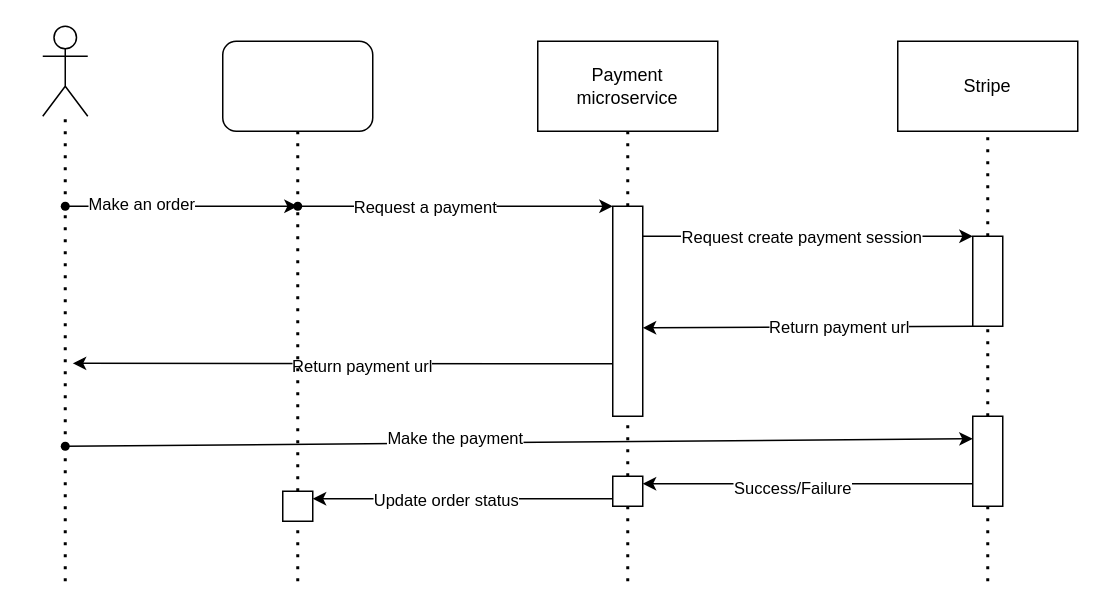
This 1104x611 diagram has some shape labels left out. The shapes that lost their labels are listed below. From the top down, each one's box as (x1, y1, x2, y2) in pixels, then its label:
(41, 25, 88, 116): Customer
(221, 40, 373, 131): Order microservice
